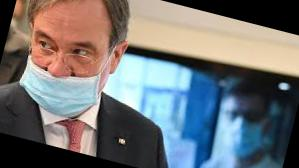mask_weared_incorrect: (17, 15, 115, 117)
with_mask: (227, 106, 265, 156)
